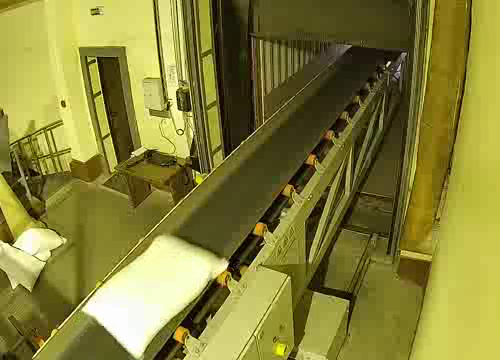bag: (77, 229, 233, 359)
